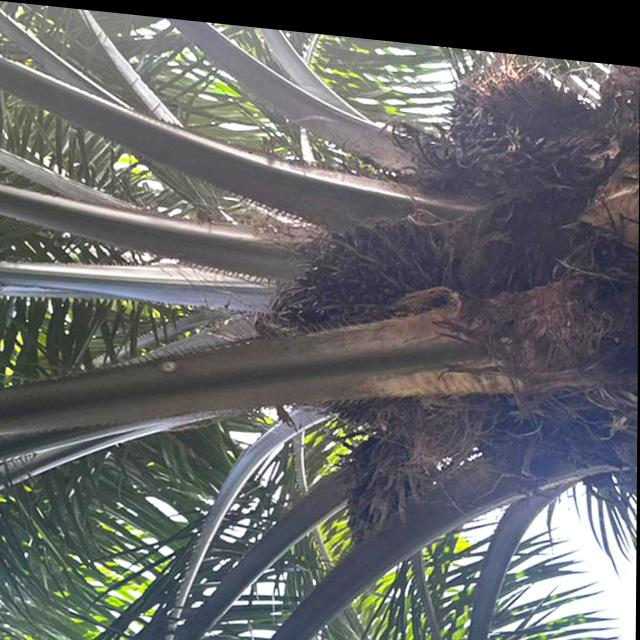ripe: (249, 173, 467, 429)
